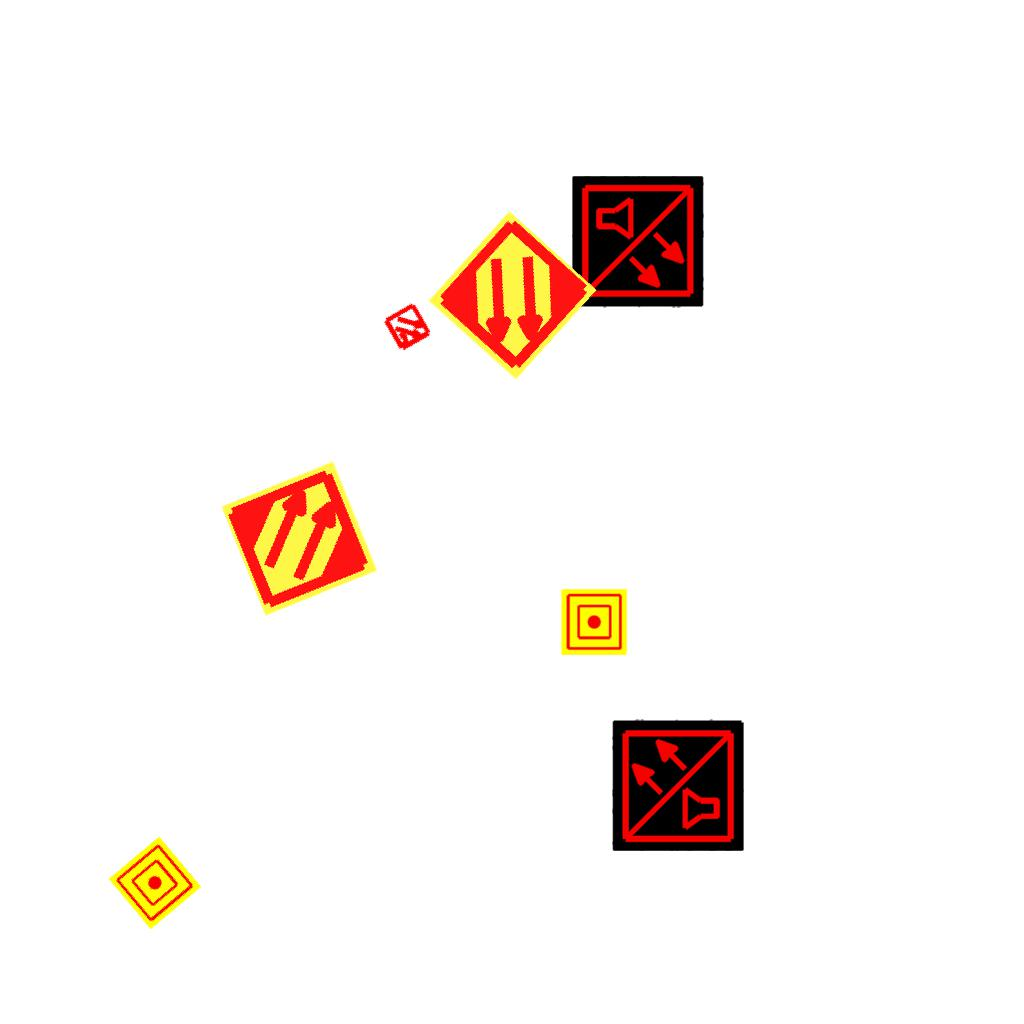ASR_Ansaugrauchmelder: (424, 207, 601, 384), (218, 457, 381, 620)
NAM-Nichtautomatischer_Melder: (108, 836, 202, 930), (561, 589, 627, 655)
OKW_Multisensormelder_(Kombination_optischer_Rauch-Kahlenmonoxid_Waerme-Melder): (572, 176, 704, 308), (612, 719, 744, 851)
OT_Multisensormelder_(Kombination_RMO_WMD): (369, 289, 447, 367), (557, 582, 631, 656)
